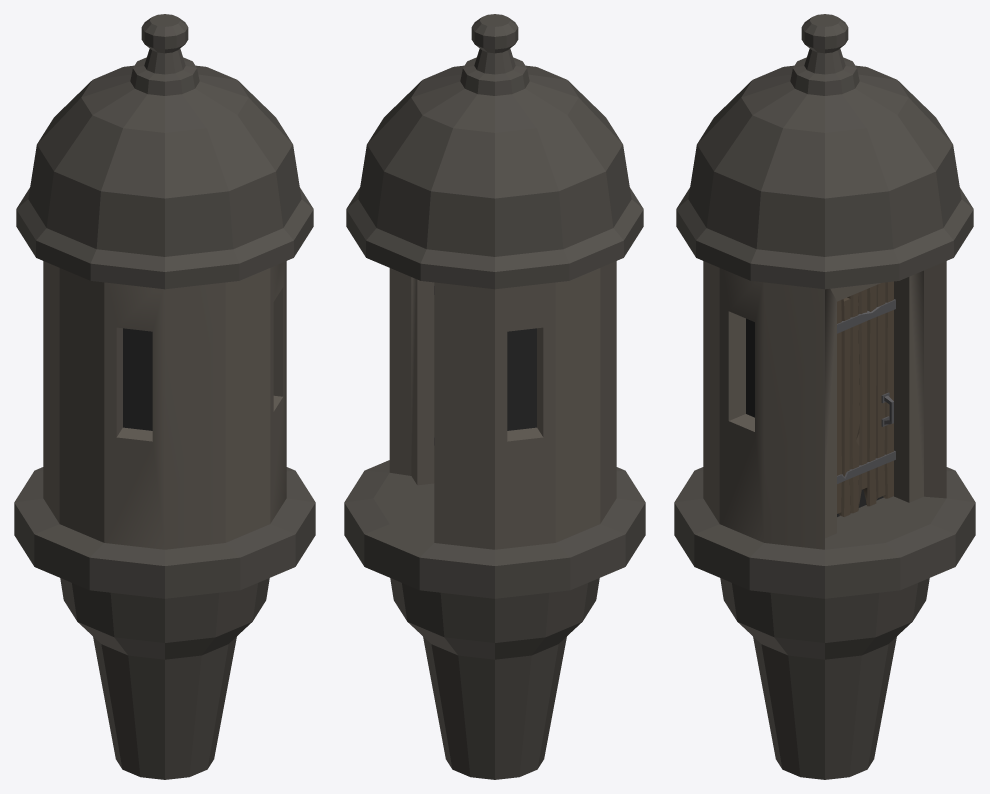
Rendered from SM_Bld_Fort_Door_04.glb.
The picture shows the model from 3 angles, left to right: view 1: azimuth 30°, elevation 25°; view 2: azimuth 150°, elevation 25°; view 3: azimuth 270°, elevation 25°; orthographic projection.
Parts seen in each view (by area): view 1: SM_Bld_Fort_Door_04; view 2: SM_Bld_Fort_Door_04; view 3: SM_Bld_Fort_Door_04.
Part boxes in pixels (x1,y1,x2,y2): SM_Bld_Fort_Door_04: (14, 14, 315, 779); SM_Bld_Fort_Door_04: (344, 14, 645, 779); SM_Bld_Fort_Door_04: (674, 14, 975, 779).
Size of the model in its own units: 0.0241 by 0.0652 by 0.0241.
